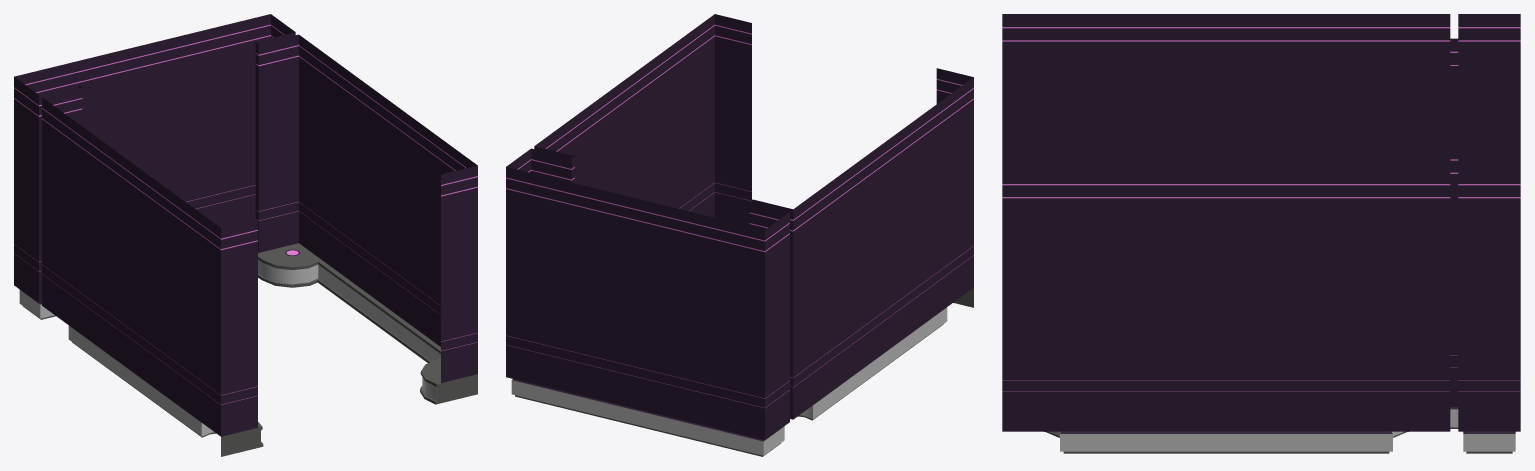
The model's file is Bar_Walls.fbx.
3 renders of one model, left to right at view 1: azimuth 30°, elevation 25°; view 2: azimuth 150°, elevation 25°; view 3: azimuth 270°, elevation 25°, orthographic. The views are drawn at different scales.
Visible parts, largest first — view 1: Bar_Walls; view 2: Bar_Walls; view 3: Bar_Walls.
Part boxes in pixels (bbox=[...]): Bar_Walls: bbox=[14, 14, 477, 456]; Bar_Walls: bbox=[506, 14, 973, 456]; Bar_Walls: bbox=[1002, 14, 1520, 453].
Size of the model in its own units: 959 by 816 by 1339.
